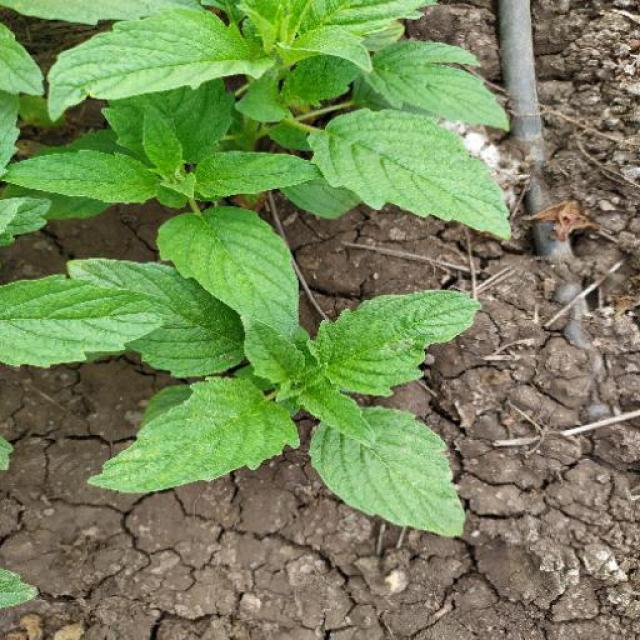crop: (14, 1, 506, 531)
